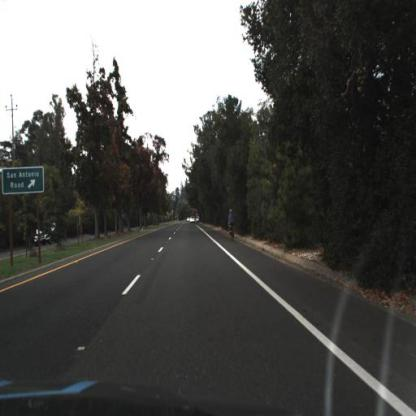biker: (228, 208, 237, 245)
